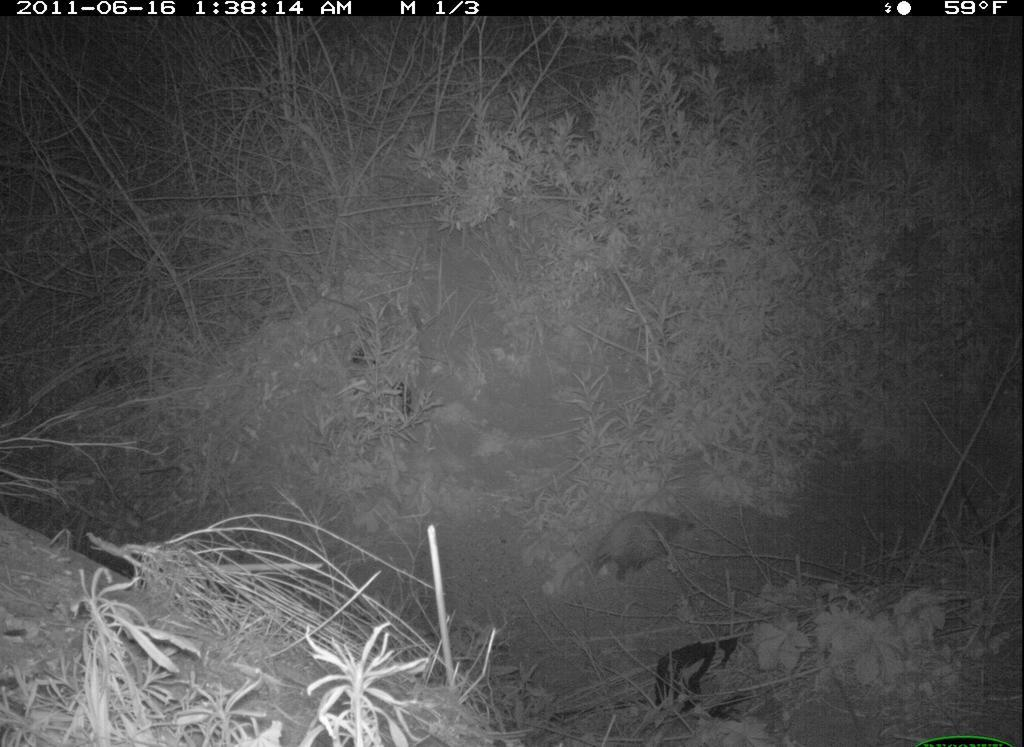opossum: (552, 501, 715, 609)
